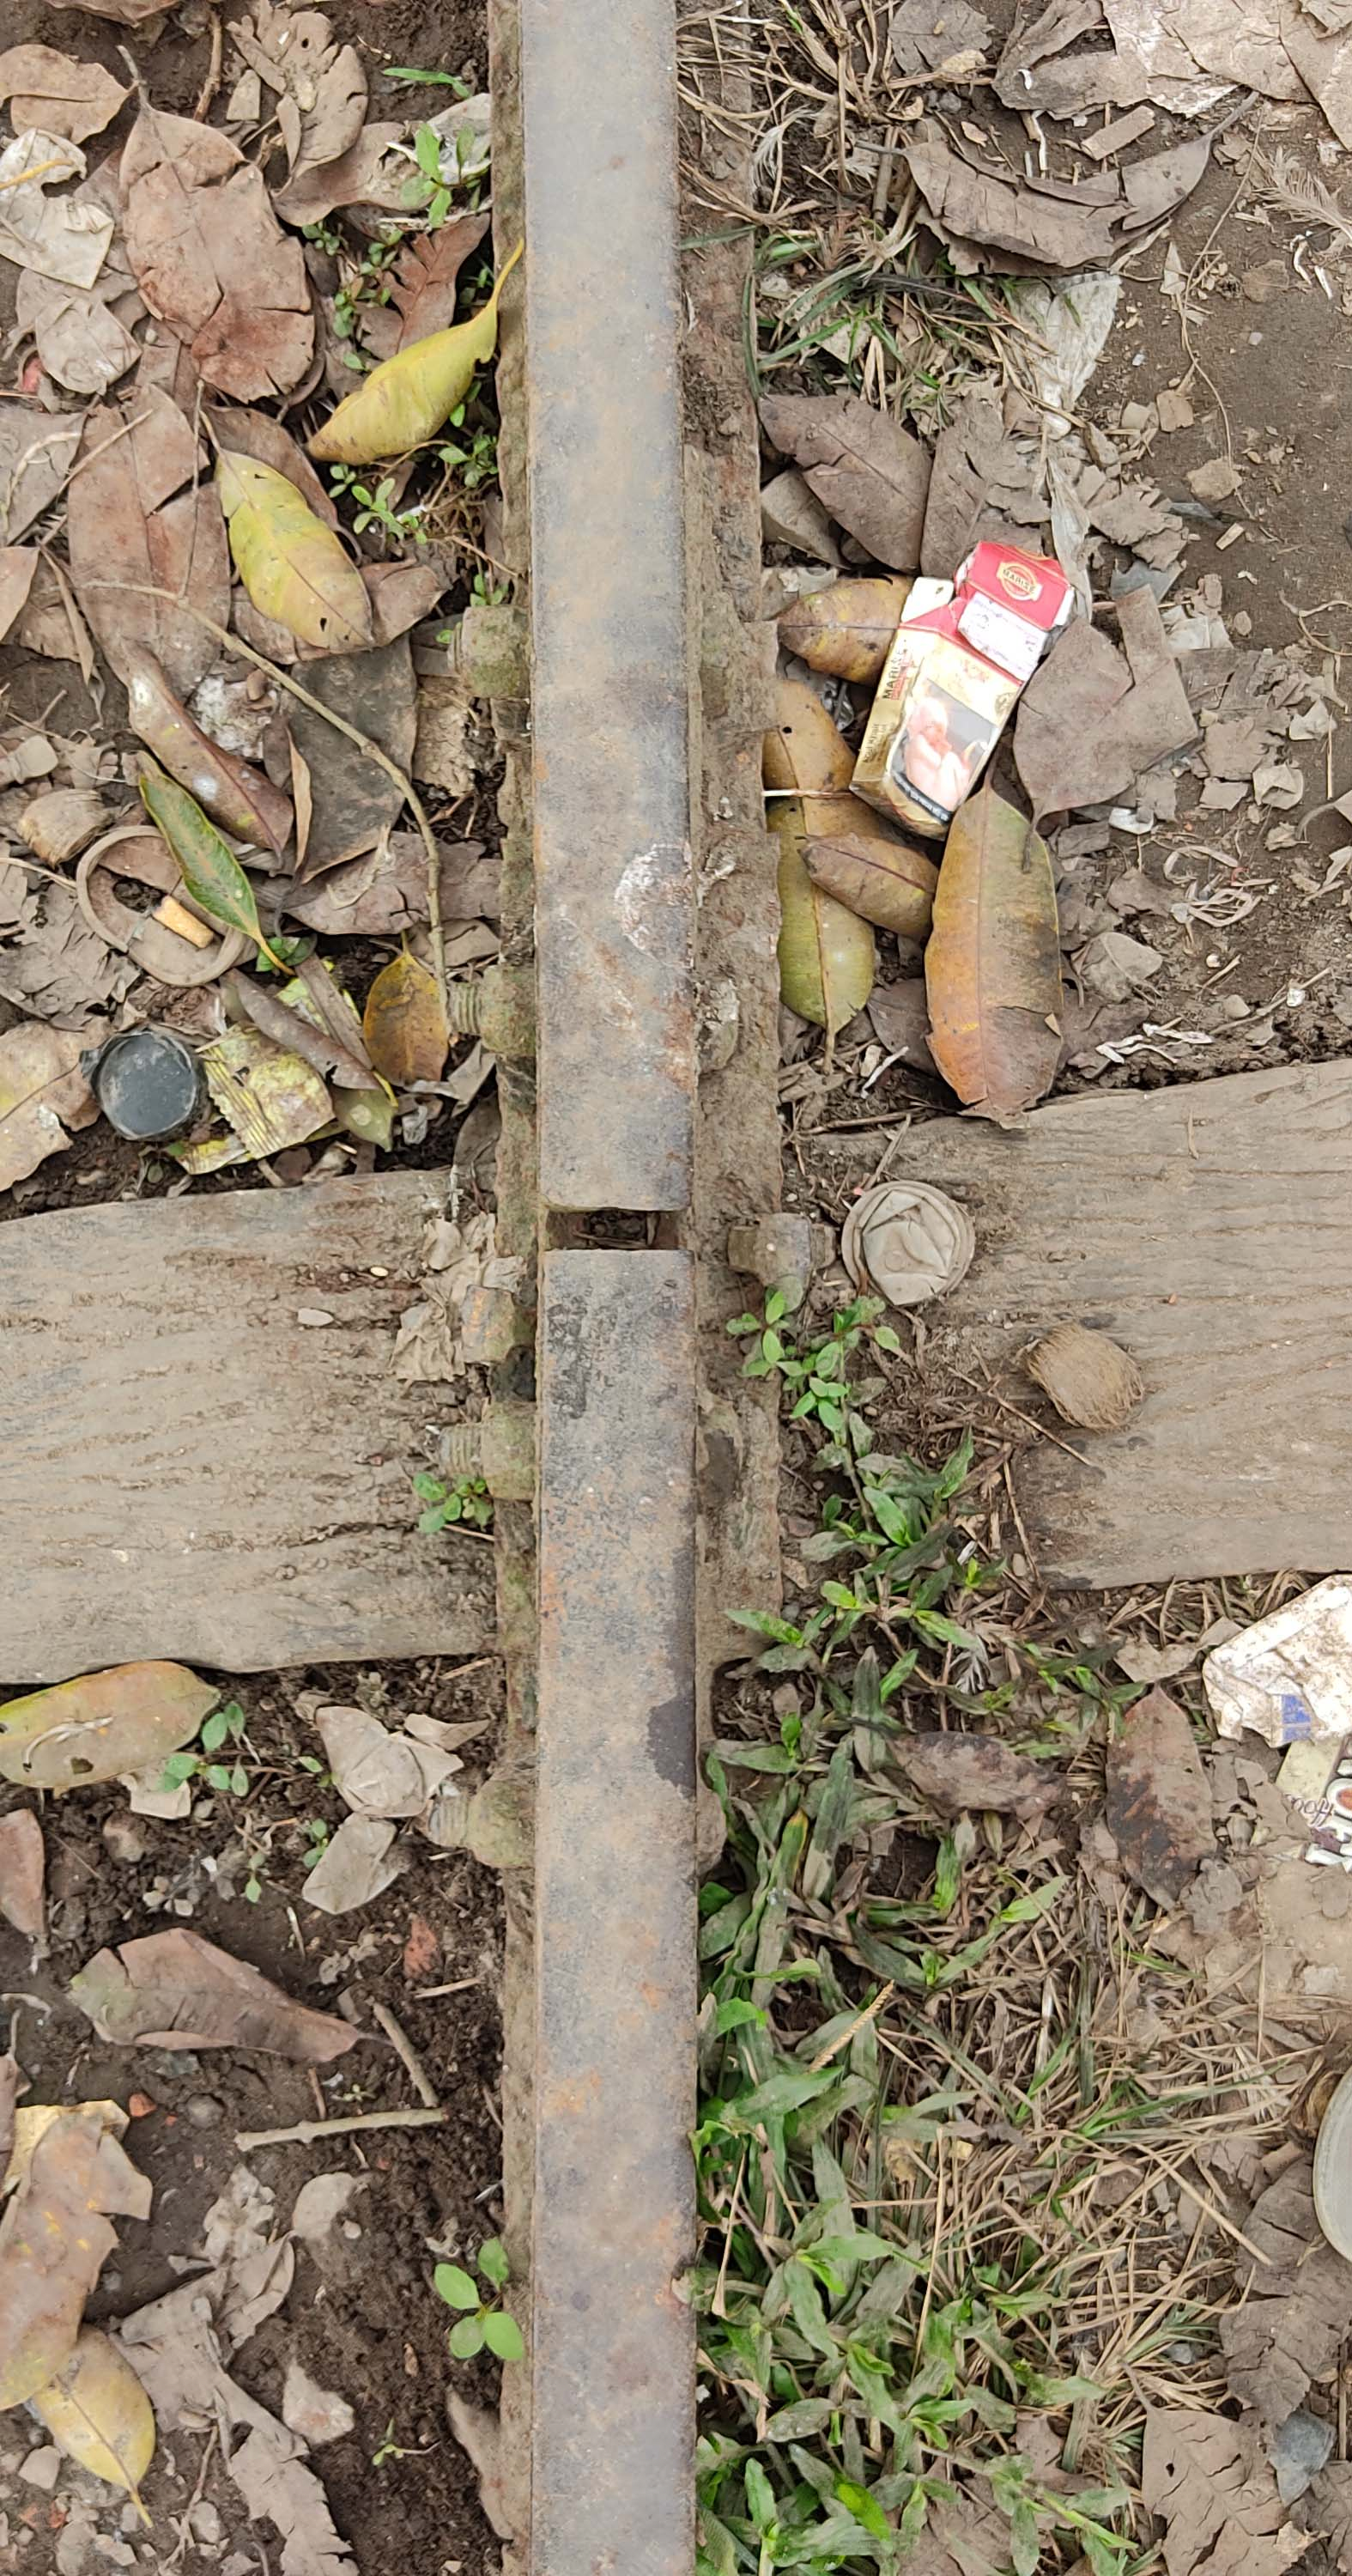error2: (521, 1119, 702, 1433)
